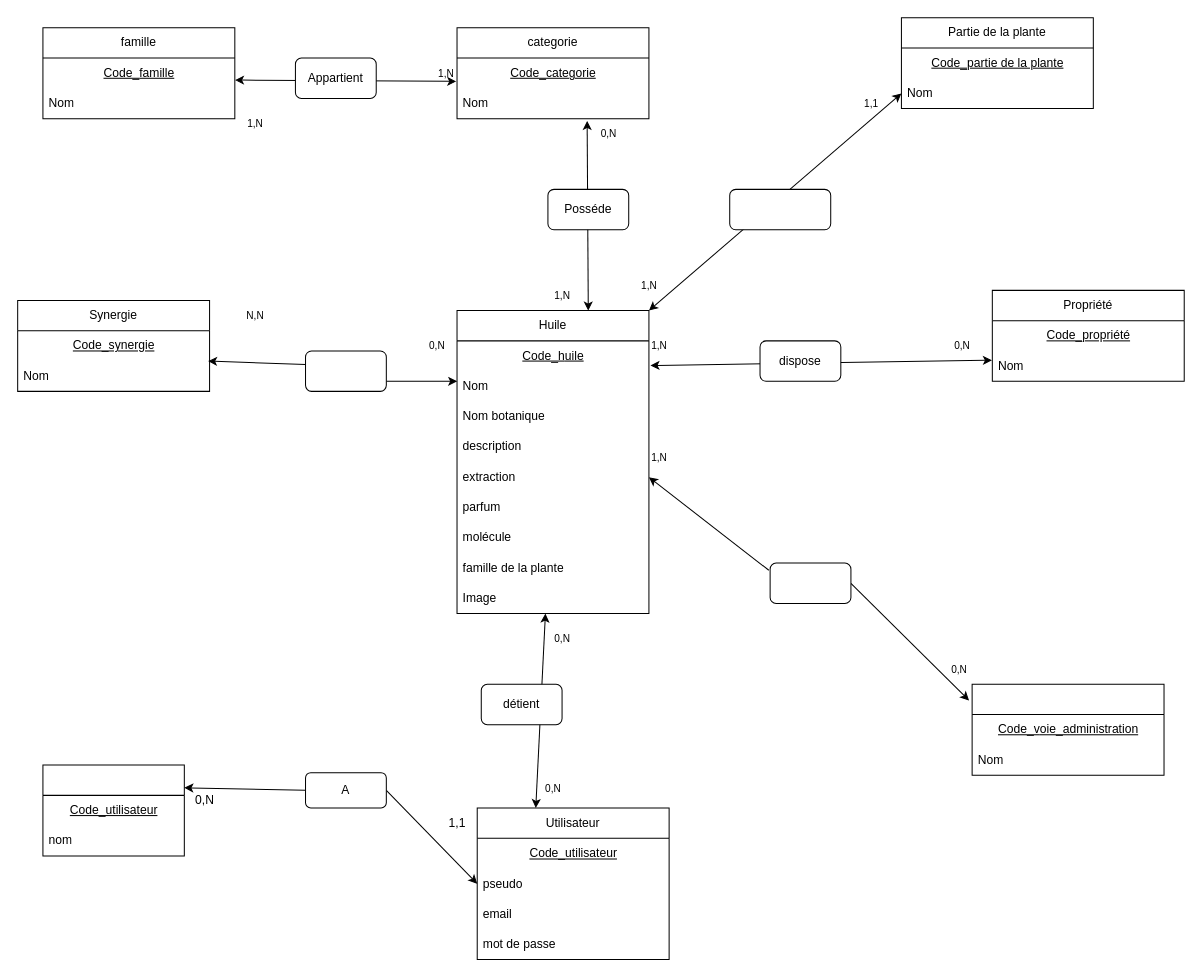
This 1202x978 diagram has some shape labels left out. Here are the shapes that lost their labels. From the top down, the box of each, then its label:
(729, 188, 831, 230): Contient
(305, 350, 386, 391): constitue
(769, 562, 851, 603): Utilise
(971, 683, 1164, 775): Voie d'administration
(42, 764, 184, 856): Role
